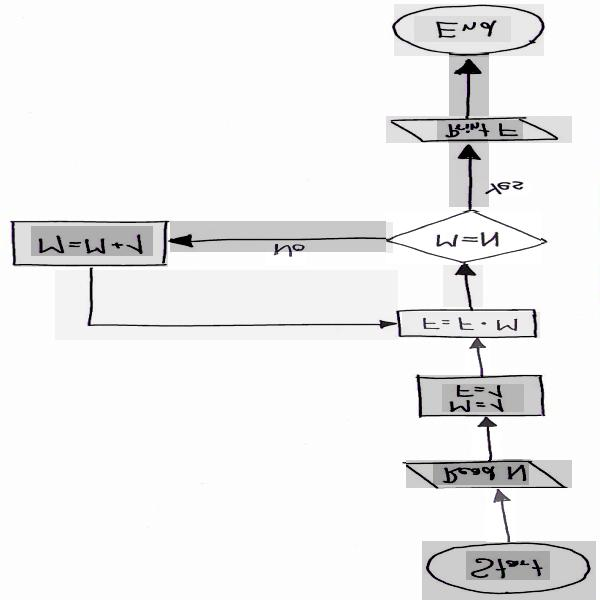arrow: (55, 270, 398, 340), (170, 221, 394, 252), (449, 139, 489, 207), (449, 52, 489, 117), (444, 265, 484, 307), (486, 488, 516, 542), (471, 418, 502, 457), (465, 338, 491, 375)
data: (387, 116, 572, 142), (407, 460, 572, 488)
decision: (387, 212, 541, 263)
process: (14, 222, 168, 267), (418, 375, 542, 416), (402, 312, 540, 338)
terminator: (422, 541, 596, 600), (394, 4, 544, 56)
text: (31, 226, 153, 256), (414, 16, 511, 42), (466, 551, 550, 580), (442, 384, 524, 412), (434, 461, 530, 484), (422, 225, 509, 249), (438, 120, 524, 140), (410, 316, 516, 332), (266, 241, 306, 265), (476, 182, 531, 195)
